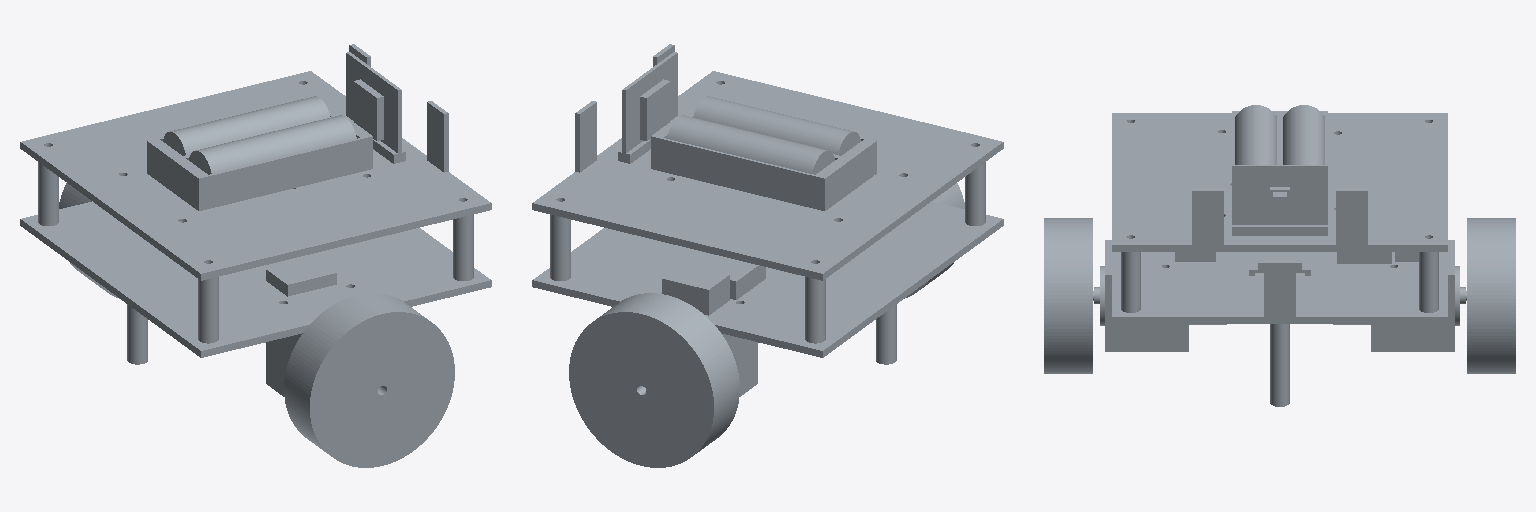
URDF robot description (robot):
<?xml version="1.0" ?>
<robot name="robot">
  <!--Generated by CROSS, a ROS Workbench for FreeCAD (https://github.com/galou/freecad.cross)-->
  <link name="base_link">
    <visual>
      <!--motore_sx-->
      <origin rpy="0.0 -0.0 0.0" xyz="0.0 0.0 0.0"/>
      <geometry>
        <mesh filename="package://robot_description/meshes/robot_cross_motore_sx.dae"/>
      </geometry>
    </visual>
    <visual>
      <!--motore_dx-->
      <origin rpy="0.0 -0.0 0.0" xyz="0.0 0.0 0.0"/>
      <geometry>
        <mesh filename="package://robot_description/meshes/robot_cross_motore_dx.dae"/>
      </geometry>
    </visual>
    <visual>
      <!--cella_18650_1-->
      <origin rpy="0.0 -0.0 0.0" xyz="0.0 0.0 0.0"/>
      <geometry>
        <mesh filename="package://robot_description/meshes/robot_cross_cella_18650_1.dae"/>
      </geometry>
    </visual>
    <visual>
      <!--cella_18650_2-->
      <origin rpy="0.0 -0.0 0.0" xyz="0.0 0.0 0.0"/>
      <geometry>
        <mesh filename="package://robot_description/meshes/robot_cross_cella_18650_2.dae"/>
      </geometry>
    </visual>
    <visual>
      <!--piastra_alta-->
      <origin rpy="0.0 -0.0 0.0" xyz="0.0 0.0 0.0"/>
      <geometry>
        <mesh filename="package://robot_description/meshes/robot_cross_piastra_alta.dae"/>
      </geometry>
    </visual>
    <visual>
      <!--colonnina_1-->
      <origin rpy="0.0 -0.0 0.0" xyz="0.0 0.0 0.0"/>
      <geometry>
        <mesh filename="package://robot_description/meshes/robot_cross_colonnina_1.dae"/>
      </geometry>
    </visual>
    <visual>
      <!--colonnina_2-->
      <origin rpy="0.0 -0.0 0.0" xyz="0.0 0.0 0.0"/>
      <geometry>
        <mesh filename="package://robot_description/meshes/robot_cross_colonnina_2.dae"/>
      </geometry>
    </visual>
    <visual>
      <!--colonnina_3-->
      <origin rpy="0.0 -0.0 0.0" xyz="0.0 0.0 0.0"/>
      <geometry>
        <mesh filename="package://robot_description/meshes/robot_cross_colonnina_3.dae"/>
      </geometry>
    </visual>
    <visual>
      <!--colonnina_4-->
      <origin rpy="0.0 -0.0 0.0" xyz="0.0 0.0 0.0"/>
      <geometry>
        <mesh filename="package://robot_description/meshes/robot_cross_colonnina_4.dae"/>
      </geometry>
    </visual>
    <visual>
      <!--piastra_bassa-->
      <origin rpy="0.0 -0.0 0.0" xyz="0.0 0.0 0.0"/>
      <geometry>
        <mesh filename="package://robot_description/meshes/robot_cross_piastra_bassa.dae"/>
      </geometry>
    </visual>
    <visual>
      <!--staffa_alta_sx-->
      <origin rpy="0.0 -0.0 0.0" xyz="0.0 0.0 0.0"/>
      <geometry>
        <mesh filename="package://robot_description/meshes/robot_cross_staffa_alta_sx.dae"/>
      </geometry>
    </visual>
    <visual>
      <!--staffa_base_sx-->
      <origin rpy="0.0 -0.0 0.0" xyz="0.0 0.0 0.0"/>
      <geometry>
        <mesh filename="package://robot_description/meshes/robot_cross_staffa_base_sx.dae"/>
      </geometry>
    </visual>
    <visual>
      <!--staffa_alta_dx-->
      <origin rpy="0.0 -0.0 0.0" xyz="0.0 0.0 0.0"/>
      <geometry>
        <mesh filename="package://robot_description/meshes/robot_cross_staffa_alta_dx.dae"/>
      </geometry>
    </visual>
    <visual>
      <!--staffa_base_dx-->
      <origin rpy="0.0 -0.0 0.0" xyz="0.0 0.0 0.0"/>
      <geometry>
        <mesh filename="package://robot_description/meshes/robot_cross_staffa_base_dx.dae"/>
      </geometry>
    </visual>
    <visual>
      <!--portabatterie-->
      <origin rpy="0.0 -0.0 0.0" xyz="0.0 0.0 0.0"/>
      <geometry>
        <mesh filename="package://robot_description/meshes/robot_cross_portabatterie.dae"/>
      </geometry>
    </visual>
    <visual>
      <!--driver_TB6612-->
      <origin rpy="0.0 -0.0 0.0" xyz="0.0 0.0 0.0"/>
      <geometry>
        <mesh filename="package://robot_description/meshes/robot_cross_driver_TB6612.dae"/>
      </geometry>
    </visual>
    <visual>
      <!--step_down_5V-->
      <origin rpy="0.0 -0.0 0.0" xyz="0.0 0.0 0.0"/>
      <geometry>
        <mesh filename="package://robot_description/meshes/robot_cross_step_down_5V.dae"/>
      </geometry>
    </visual>
    <visual>
      <!--IMU_MPU6050-->
      <origin rpy="0.0 -0.0 0.0" xyz="0.0 0.0 0.0"/>
      <geometry>
        <mesh filename="package://robot_description/meshes/robot_cross_IMU_MPU6050.dae"/>
      </geometry>
    </visual>
    <visual>
      <!--ToF_centro-->
      <origin rpy="0.0 -0.0 0.0" xyz="0.0 0.0 0.0"/>
      <geometry>
        <mesh filename="package://robot_description/meshes/robot_cross_ToF_centro.dae"/>
      </geometry>
    </visual>
    <visual>
      <!--ToF_sx-->
      <origin rpy="0.0 -0.0 0.0" xyz="0.0 0.0 0.0"/>
      <geometry>
        <mesh filename="package://robot_description/meshes/robot_cross_ToF_sx.dae"/>
      </geometry>
    </visual>
    <visual>
      <!--ToF_dx-->
      <origin rpy="0.0 -0.0 0.0" xyz="0.0 0.0 0.0"/>
      <geometry>
        <mesh filename="package://robot_description/meshes/robot_cross_ToF_dx.dae"/>
      </geometry>
    </visual>
    <visual>
      <!--appoggio_anteriore-->
      <origin rpy="0.0 -0.0 0.0" xyz="0.0 0.0 0.0"/>
      <geometry>
        <mesh filename="package://robot_description/meshes/robot_cross_appoggio_anteriore.dae"/>
      </geometry>
    </visual>
    <visual>
      <!--appoggio_posteriore-->
      <origin rpy="0.0 -0.0 0.0" xyz="0.0 0.0 0.0"/>
      <geometry>
        <mesh filename="package://robot_description/meshes/robot_cross_appoggio_posteriore.dae"/>
      </geometry>
    </visual>
    <visual>
      <!--esp32_supporto_1-->
      <origin rpy="0.0 -0.0 0.0" xyz="0.0 0.0 0.0"/>
      <geometry>
        <mesh filename="package://robot_description/meshes/robot_cross_esp32_supporto_1.dae"/>
      </geometry>
    </visual>
    <visual>
      <!--esp32_supporto_2-->
      <origin rpy="0.0 -0.0 0.0" xyz="0.0 0.0 0.0"/>
      <geometry>
        <mesh filename="package://robot_description/meshes/robot_cross_esp32_supporto_2.dae"/>
      </geometry>
    </visual>
    <visual>
      <!--esp32_pcb-->
      <origin rpy="0.0 -0.0 0.0" xyz="0.0 0.0 0.0"/>
      <geometry>
        <mesh filename="package://robot_description/meshes/robot_cross_esp32_pcb.dae"/>
      </geometry>
    </visual>
    <visual>
      <!--esp32_modulo_WROOM-->
      <origin rpy="0.0 -0.0 0.0" xyz="0.0 0.0 0.0"/>
      <geometry>
        <mesh filename="package://robot_description/meshes/robot_cross_esp32_modulo_WROOM.dae"/>
      </geometry>
    </visual>
    <visual>
      <!--esp32_usb_1-->
      <origin rpy="0.0 -0.0 0.0" xyz="0.0 0.0 0.0"/>
      <geometry>
        <mesh filename="package://robot_description/meshes/robot_cross_esp32_usb_1.dae"/>
      </geometry>
    </visual>
    <visual>
      <!--esp32_usb_2-->
      <origin rpy="0.0 -0.0 0.0" xyz="0.0 0.0 0.0"/>
      <geometry>
        <mesh filename="package://robot_description/meshes/robot_cross_esp32_usb_2.dae"/>
      </geometry>
    </visual>
    <visual>
      <!--esp32_header_sx-->
      <origin rpy="0.0 -0.0 0.0" xyz="0.0 0.0 0.0"/>
      <geometry>
        <mesh filename="package://robot_description/meshes/robot_cross_esp32_header_sx.dae"/>
      </geometry>
    </visual>
    <visual>
      <!--esp32_header_dx-->
      <origin rpy="0.0 -0.0 0.0" xyz="0.0 0.0 0.0"/>
      <geometry>
        <mesh filename="package://robot_description/meshes/robot_cross_esp32_header_dx.dae"/>
      </geometry>
    </visual>
    <visual>
      <!--cam_supporto-->
      <origin rpy="0.0 -0.0 0.0" xyz="0.0 0.0 0.0"/>
      <geometry>
        <mesh filename="package://robot_description/meshes/robot_cross_cam_supporto.dae"/>
      </geometry>
    </visual>
    <visual>
      <!--cam_pcb-->
      <origin rpy="0.0 -0.0 0.0" xyz="0.0 0.0 0.0"/>
      <geometry>
        <mesh filename="package://robot_description/meshes/robot_cross_cam_pcb.dae"/>
      </geometry>
    </visual>
    <visual>
      <!--cam_modulo_WROOM-->
      <origin rpy="0.0 -0.0 0.0" xyz="0.0 0.0 0.0"/>
      <geometry>
        <mesh filename="package://robot_description/meshes/robot_cross_cam_modulo_WROOM.dae"/>
      </geometry>
    </visual>
    <visual>
      <!--cam_obiettivo_base-->
      <origin rpy="0.0 -0.0 0.0" xyz="0.0 0.0 0.0"/>
      <geometry>
        <mesh filename="package://robot_description/meshes/robot_cross_cam_obiettivo_base.dae"/>
      </geometry>
    </visual>
    <visual>
      <!--cam_obiettivo-->
      <origin rpy="0.0 -0.0 0.0" xyz="0.0 0.0 0.0"/>
      <geometry>
        <mesh filename="package://robot_description/meshes/robot_cross_cam_obiettivo.dae"/>
      </geometry>
    </visual>
    <collision>
      <!--motore_sx-->
      <origin rpy="0.0 -0.0 0.0" xyz="0.0 0.0 0.0"/>
      <geometry>
        <mesh filename="package://robot_description/meshes/robot_cross_motore_sx.dae"/>
      </geometry>
    </collision>
    <collision>
      <!--motore_dx-->
      <origin rpy="0.0 -0.0 0.0" xyz="0.0 0.0 0.0"/>
      <geometry>
        <mesh filename="package://robot_description/meshes/robot_cross_motore_dx.dae"/>
      </geometry>
    </collision>
    <collision>
      <!--cella_18650_1-->
      <origin rpy="0.0 -0.0 0.0" xyz="0.0 0.0 0.0"/>
      <geometry>
        <mesh filename="package://robot_description/meshes/robot_cross_cella_18650_1.dae"/>
      </geometry>
    </collision>
    <collision>
      <!--cella_18650_2-->
      <origin rpy="0.0 -0.0 0.0" xyz="0.0 0.0 0.0"/>
      <geometry>
        <mesh filename="package://robot_description/meshes/robot_cross_cella_18650_2.dae"/>
      </geometry>
    </collision>
    <collision>
      <!--piastra_alta-->
      <origin rpy="0.0 -0.0 0.0" xyz="0.0 0.0 0.0"/>
      <geometry>
        <mesh filename="package://robot_description/meshes/robot_cross_piastra_alta.dae"/>
      </geometry>
    </collision>
    <collision>
      <!--colonnina_1-->
      <origin rpy="0.0 -0.0 0.0" xyz="0.0 0.0 0.0"/>
      <geometry>
        <mesh filename="package://robot_description/meshes/robot_cross_colonnina_1.dae"/>
      </geometry>
    </collision>
    <collision>
      <!--colonnina_2-->
      <origin rpy="0.0 -0.0 0.0" xyz="0.0 0.0 0.0"/>
      <geometry>
        <mesh filename="package://robot_description/meshes/robot_cross_colonnina_2.dae"/>
      </geometry>
    </collision>
    <collision>
      <!--colonnina_3-->
      <origin rpy="0.0 -0.0 0.0" xyz="0.0 0.0 0.0"/>
      <geometry>
        <mesh filename="package://robot_description/meshes/robot_cross_colonnina_3.dae"/>
      </geometry>
    </collision>
    <collision>
      <!--colonnina_4-->
      <origin rpy="0.0 -0.0 0.0" xyz="0.0 0.0 0.0"/>
      <geometry>
        <mesh filename="package://robot_description/meshes/robot_cross_colonnina_4.dae"/>
      </geometry>
    </collision>
    <collision>
      <!--piastra_bassa-->
      <origin rpy="0.0 -0.0 0.0" xyz="0.0 0.0 0.0"/>
      <geometry>
        <mesh filename="package://robot_description/meshes/robot_cross_piastra_bassa.dae"/>
      </geometry>
    </collision>
    <collision>
      <!--staffa_alta_sx-->
      <origin rpy="0.0 -0.0 0.0" xyz="0.0 0.0 0.0"/>
      <geometry>
        <mesh filename="package://robot_description/meshes/robot_cross_staffa_alta_sx.dae"/>
      </geometry>
    </collision>
    <collision>
      <!--staffa_base_sx-->
      <origin rpy="0.0 -0.0 0.0" xyz="0.0 0.0 0.0"/>
      <geometry>
        <mesh filename="package://robot_description/meshes/robot_cross_staffa_base_sx.dae"/>
      </geometry>
    </collision>
    <collision>
      <!--staffa_alta_dx-->
      <origin rpy="0.0 -0.0 0.0" xyz="0.0 0.0 0.0"/>
      <geometry>
        <mesh filename="package://robot_description/meshes/robot_cross_staffa_alta_dx.dae"/>
      </geometry>
    </collision>
    <collision>
      <!--staffa_base_dx-->
      <origin rpy="0.0 -0.0 0.0" xyz="0.0 0.0 0.0"/>
      <geometry>
        <mesh filename="package://robot_description/meshes/robot_cross_staffa_base_dx.dae"/>
      </geometry>
    </collision>
    <collision>
      <!--portabatterie-->
      <origin rpy="0.0 -0.0 0.0" xyz="0.0 0.0 0.0"/>
      <geometry>
        <mesh filename="package://robot_description/meshes/robot_cross_portabatterie.dae"/>
      </geometry>
    </collision>
    <collision>
      <!--driver_TB6612-->
      <origin rpy="0.0 -0.0 0.0" xyz="0.0 0.0 0.0"/>
      <geometry>
        <mesh filename="package://robot_description/meshes/robot_cross_driver_TB6612.dae"/>
      </geometry>
    </collision>
    <collision>
      <!--step_down_5V-->
      <origin rpy="0.0 -0.0 0.0" xyz="0.0 0.0 0.0"/>
      <geometry>
        <mesh filename="package://robot_description/meshes/robot_cross_step_down_5V.dae"/>
      </geometry>
    </collision>
    <collision>
      <!--IMU_MPU6050-->
      <origin rpy="0.0 -0.0 0.0" xyz="0.0 0.0 0.0"/>
      <geometry>
        <mesh filename="package://robot_description/meshes/robot_cross_IMU_MPU6050.dae"/>
      </geometry>
    </collision>
    <collision>
      <!--ToF_centro-->
      <origin rpy="0.0 -0.0 0.0" xyz="0.0 0.0 0.0"/>
      <geometry>
        <mesh filename="package://robot_description/meshes/robot_cross_ToF_centro.dae"/>
      </geometry>
    </collision>
    <collision>
      <!--ToF_sx-->
      <origin rpy="0.0 -0.0 0.0" xyz="0.0 0.0 0.0"/>
      <geometry>
        <mesh filename="package://robot_description/meshes/robot_cross_ToF_sx.dae"/>
      </geometry>
    </collision>
    <collision>
      <!--ToF_dx-->
      <origin rpy="0.0 -0.0 0.0" xyz="0.0 0.0 0.0"/>
      <geometry>
        <mesh filename="package://robot_description/meshes/robot_cross_ToF_dx.dae"/>
      </geometry>
    </collision>
    <collision>
      <!--appoggio_anteriore-->
      <origin rpy="0.0 -0.0 0.0" xyz="0.0 0.0 0.0"/>
      <geometry>
        <mesh filename="package://robot_description/meshes/robot_cross_appoggio_anteriore.dae"/>
      </geometry>
    </collision>
    <collision>
      <!--appoggio_posteriore-->
      <origin rpy="0.0 -0.0 0.0" xyz="0.0 0.0 0.0"/>
      <geometry>
        <mesh filename="package://robot_description/meshes/robot_cross_appoggio_posteriore.dae"/>
      </geometry>
    </collision>
    <collision>
      <!--esp32_supporto_1-->
      <origin rpy="0.0 -0.0 0.0" xyz="0.0 0.0 0.0"/>
      <geometry>
        <mesh filename="package://robot_description/meshes/robot_cross_esp32_supporto_1.dae"/>
      </geometry>
    </collision>
    <collision>
      <!--esp32_supporto_2-->
      <origin rpy="0.0 -0.0 0.0" xyz="0.0 0.0 0.0"/>
      <geometry>
        <mesh filename="package://robot_description/meshes/robot_cross_esp32_supporto_2.dae"/>
      </geometry>
    </collision>
    <collision>
      <!--esp32_pcb-->
      <origin rpy="0.0 -0.0 0.0" xyz="0.0 0.0 0.0"/>
      <geometry>
        <mesh filename="package://robot_description/meshes/robot_cross_esp32_pcb.dae"/>
      </geometry>
    </collision>
    <collision>
      <!--esp32_modulo_WROOM-->
      <origin rpy="0.0 -0.0 0.0" xyz="0.0 0.0 0.0"/>
      <geometry>
        <mesh filename="package://robot_description/meshes/robot_cross_esp32_modulo_WROOM.dae"/>
      </geometry>
    </collision>
    <collision>
      <!--esp32_usb_1-->
      <origin rpy="0.0 -0.0 0.0" xyz="0.0 0.0 0.0"/>
      <geometry>
        <mesh filename="package://robot_description/meshes/robot_cross_esp32_usb_1.dae"/>
      </geometry>
    </collision>
    <collision>
      <!--esp32_usb_2-->
      <origin rpy="0.0 -0.0 0.0" xyz="0.0 0.0 0.0"/>
      <geometry>
        <mesh filename="package://robot_description/meshes/robot_cross_esp32_usb_2.dae"/>
      </geometry>
    </collision>
    <collision>
      <!--esp32_header_sx-->
      <origin rpy="0.0 -0.0 0.0" xyz="0.0 0.0 0.0"/>
      <geometry>
        <mesh filename="package://robot_description/meshes/robot_cross_esp32_header_sx.dae"/>
      </geometry>
    </collision>
    <collision>
      <!--esp32_header_dx-->
      <origin rpy="0.0 -0.0 0.0" xyz="0.0 0.0 0.0"/>
      <geometry>
        <mesh filename="package://robot_description/meshes/robot_cross_esp32_header_dx.dae"/>
      </geometry>
    </collision>
    <collision>
      <!--cam_supporto-->
      <origin rpy="0.0 -0.0 0.0" xyz="0.0 0.0 0.0"/>
      <geometry>
        <mesh filename="package://robot_description/meshes/robot_cross_cam_supporto.dae"/>
      </geometry>
    </collision>
    <collision>
      <!--cam_pcb-->
      <origin rpy="0.0 -0.0 0.0" xyz="0.0 0.0 0.0"/>
      <geometry>
        <mesh filename="package://robot_description/meshes/robot_cross_cam_pcb.dae"/>
      </geometry>
    </collision>
    <collision>
      <!--cam_modulo_WROOM-->
      <origin rpy="0.0 -0.0 0.0" xyz="0.0 0.0 0.0"/>
      <geometry>
        <mesh filename="package://robot_description/meshes/robot_cross_cam_modulo_WROOM.dae"/>
      </geometry>
    </collision>
    <collision>
      <!--cam_obiettivo_base-->
      <origin rpy="0.0 -0.0 0.0" xyz="0.0 0.0 0.0"/>
      <geometry>
        <mesh filename="package://robot_description/meshes/robot_cross_cam_obiettivo_base.dae"/>
      </geometry>
    </collision>
    <collision>
      <!--cam_obiettivo-->
      <origin rpy="0.0 -0.0 0.0" xyz="0.0 0.0 0.0"/>
      <geometry>
        <mesh filename="package://robot_description/meshes/robot_cross_cam_obiettivo.dae"/>
      </geometry>
    </collision>
    <inertial>
      <mass value="0.3941300000000002"/>
      <origin rpy="0.0 -0.0 0.0" xyz="0.00364544 -1.73443e-05 0.0603349"/>
      <inertia ixx="0.0009032853640303112" ixy="-2.7807223721915974e-08" ixz="-4.760216318895247e-05" iyy="0.0005547345500512812" iyz="-8.043099405832357e-07" izz="0.000805077464060716"/>
    </inertial>
  </link>
  <link name="ruota_sx">
    <visual>
      <!--ruota_sx_corpo-->
      <origin rpy="1.570796326794897 -0.0 -0.0" xyz="0.0 0.0325 -0.088"/>
      <geometry>
        <mesh filename="package://robot_description/meshes/robot_cross_ruota_sx_corpo.dae"/>
      </geometry>
    </visual>
    <visual>
      <!--ruota_sx_gomma-->
      <origin rpy="1.570796326794897 -0.0 -0.0" xyz="0.0 0.0325 -0.088"/>
      <geometry>
        <mesh filename="package://robot_description/meshes/robot_cross_ruota_sx_gomma.dae"/>
      </geometry>
    </visual>
    <collision>
      <!--ruota_sx_corpo-->
      <origin rpy="1.570796326794897 -0.0 -0.0" xyz="0.0 0.0325 -0.088"/>
      <geometry>
        <mesh filename="package://robot_description/meshes/robot_cross_ruota_sx_corpo.dae"/>
      </geometry>
    </collision>
    <collision>
      <!--ruota_sx_gomma-->
      <origin rpy="1.570796326794897 -0.0 -0.0" xyz="0.0 0.0325 -0.088"/>
      <geometry>
        <mesh filename="package://robot_description/meshes/robot_cross_ruota_sx_gomma.dae"/>
      </geometry>
    </collision>
    <inertial>
      <mass value="0.041170000000000005"/>
      <origin rpy="0.0 -0.0 0.0" xyz="1.76075e-17 -5.0892e-07 -1.42109e-17"/>
      <inertia ixx="1.2647477369056691e-05" ixy="1.4887122157212688e-21" ixz="-1.5567572081628848e-21" iyy="1.26474428084998e-05" iyz="4.8700050564396206e-21" izz="2.2569409543805912e-05"/>
    </inertial>
  </link>
  <link name="ruota_dx">
    <visual>
      <!--ruota_dx_corpo-->
      <origin rpy="1.570796326794897 -0.0 -0.0" xyz="0.0 0.0325 0.088"/>
      <geometry>
        <mesh filename="package://robot_description/meshes/robot_cross_ruota_dx_corpo.dae"/>
      </geometry>
    </visual>
    <visual>
      <!--ruota_dx_gomma-->
      <origin rpy="1.570796326794897 -0.0 -0.0" xyz="0.0 0.0325 0.088"/>
      <geometry>
        <mesh filename="package://robot_description/meshes/robot_cross_ruota_dx_gomma.dae"/>
      </geometry>
    </visual>
    <collision>
      <!--ruota_dx_corpo-->
      <origin rpy="1.570796326794897 -0.0 -0.0" xyz="0.0 0.0325 0.088"/>
      <geometry>
        <mesh filename="package://robot_description/meshes/robot_cross_ruota_dx_corpo.dae"/>
      </geometry>
    </collision>
    <collision>
      <!--ruota_dx_gomma-->
      <origin rpy="1.570796326794897 -0.0 -0.0" xyz="0.0 0.0325 0.088"/>
      <geometry>
        <mesh filename="package://robot_description/meshes/robot_cross_ruota_dx_gomma.dae"/>
      </geometry>
    </collision>
    <inertial>
      <mass value="0.041170000000000005"/>
      <origin rpy="0.0 -0.0 0.0" xyz="1.76075e-17 -5.0892e-07 1.42109e-17"/>
      <inertia ixx="1.2647477369056691e-05" ixy="1.488712215721268e-21" ixz="1.4462405707937853e-21" iyy="1.2647442808499772e-05" iyz="-5.761678680572222e-20" izz="2.2569409543805912e-05"/>
    </inertial>
  </link>
  <joint name="giunto_ruota_sx" type="continuous">
    <parent link="base_link"/>
    <child link="ruota_sx"/>
    <origin rpy="-1.570796326794897 -0.0 0.0" xyz="0.0 0.088 0.0325"/>
    <axis xyz="0 0 1"/>
  </joint>
  <joint name="giunto_ruota_dx" type="continuous">
    <parent link="base_link"/>
    <child link="ruota_dx"/>
    <origin rpy="-1.570796326794897 -0.0 0.0" xyz="0.0 -0.088 0.0325"/>
    <axis xyz="0 0 1"/>
  </joint>
</robot>

--- What the picture shows (computed from the rendered views, not written in the file) ---
3 views of the same robot in one strip: view 1: azimuth 30°, elevation 25°; view 2: azimuth 150°, elevation 25°; view 3: azimuth 270°, elevation 25° (orthographic).
Robot: robot — 3 links, 2 joints (2 continuous); root link base_link; default pose: every joint at zero.
Links seen in each view (by area): view 1: base_link, ruota_dx, ruota_sx; view 2: base_link, ruota_sx, ruota_dx; view 3: base_link, ruota_sx, ruota_dx.
Boxes of the visible links, x1=… form: base_link: x1=20, y1=44, x2=491, y2=396; ruota_dx: x1=284, y1=293, x2=454, y2=467; ruota_sx: x1=59, y1=183, x2=119, y2=298; base_link: x1=532, y1=44, x2=1003, y2=396; ruota_sx: x1=569, y1=293, x2=739, y2=467; ruota_dx: x1=904, y1=183, x2=964, y2=298; base_link: x1=1093, y1=105, x2=1466, y2=406; ruota_sx: x1=1467, y1=218, x2=1515, y2=373; ruota_dx: x1=1044, y1=218, x2=1092, y2=373.
Size in the robot's own frame: 0.13 by 0.196 by 0.117 metres.
40 mesh visuals loaded from 40 distinct referenced files (40 Collada DAE).
